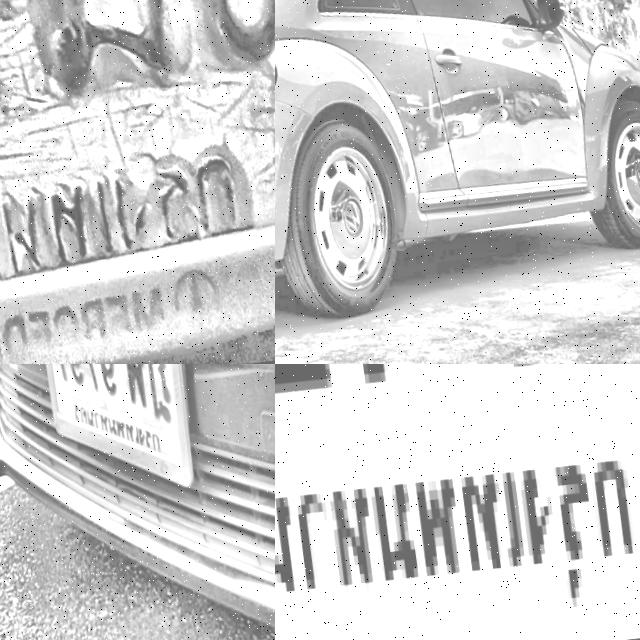license-plate: (275, 364, 640, 640), (0, 0, 275, 364), (35, 364, 206, 511)
